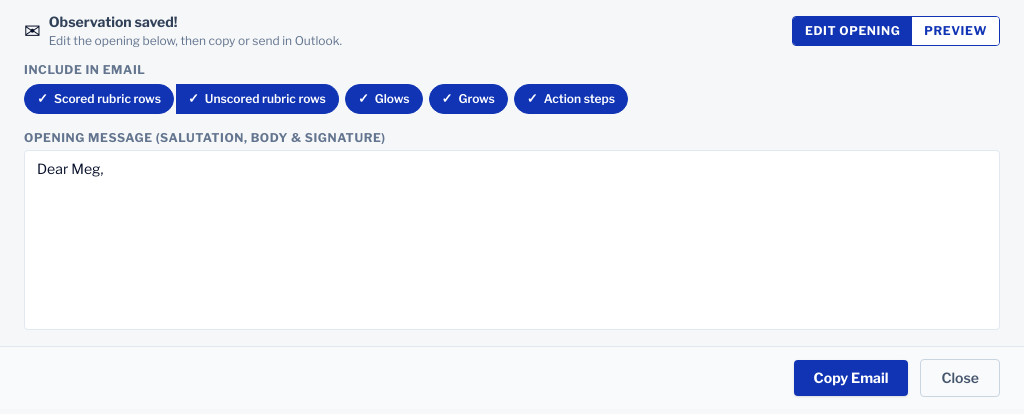
Test: Include in Email › the unscored rows depend on the scored ones › switches off and locks when the scored rows go
The image size is (1024, 414).
Click the button "✓ Scored rubric rows": [99, 99] box 24,84 -> 174,114
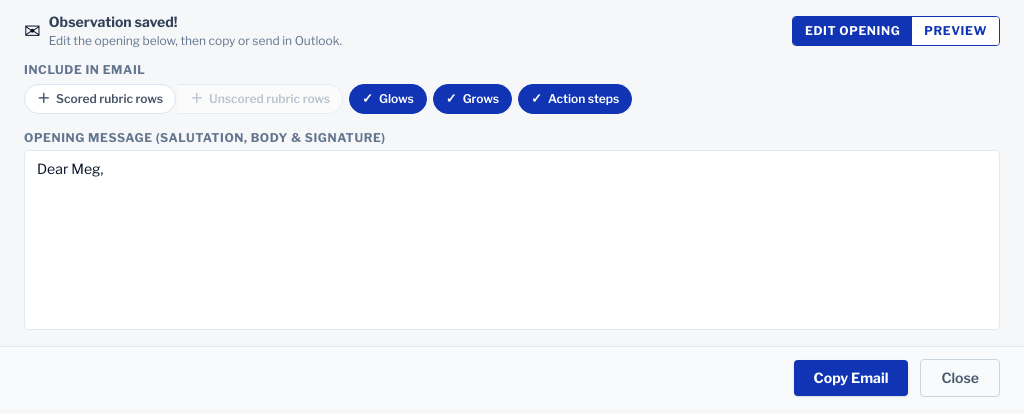
Expected: the button "＋ Unscored rubric rows" is disabled, 178,84 -> 343,114
